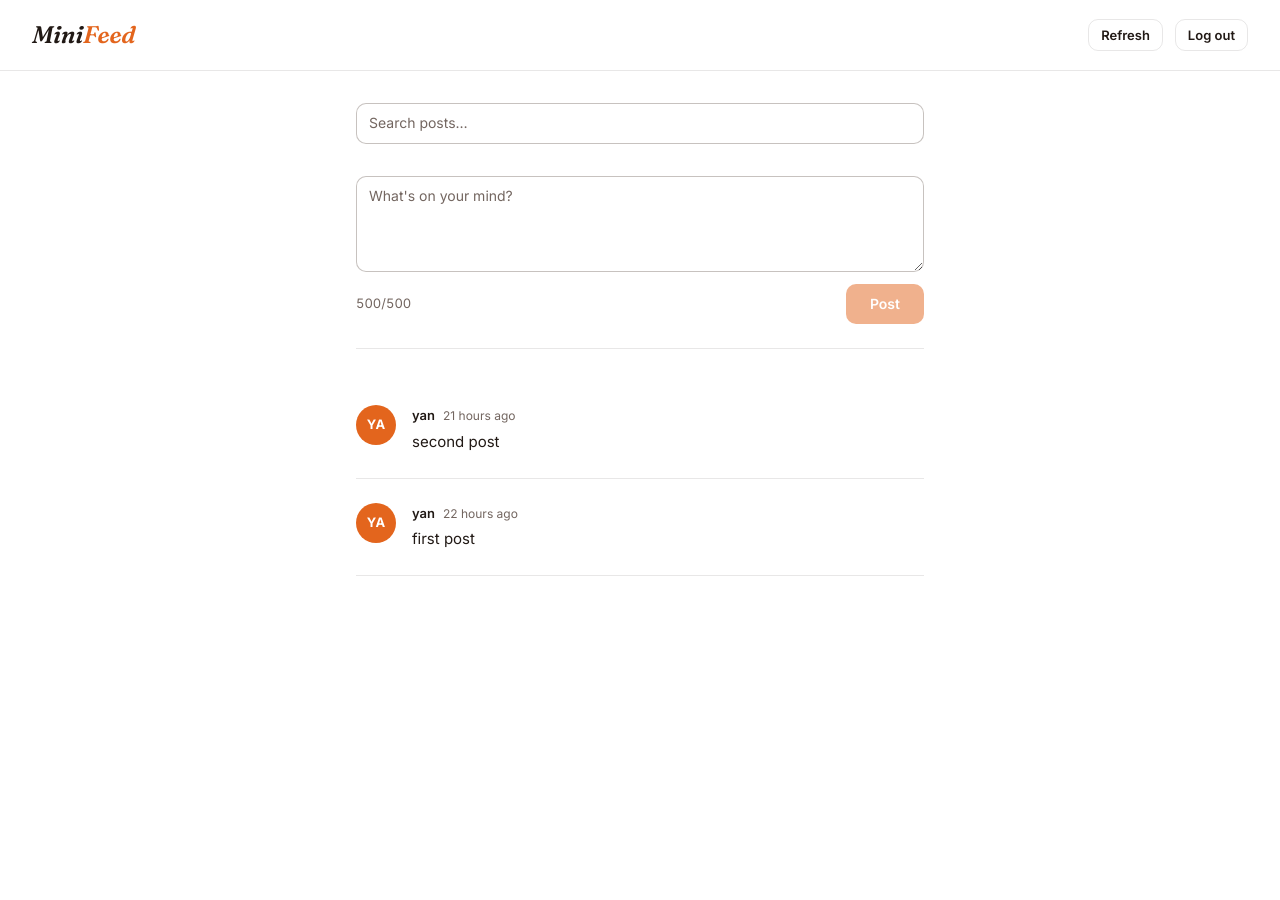
FeedPage › keeps posts and shows a stale banner when refresh fails after data loaded
Expected: the text "second post" is shown, [412,432,500,451]
Click the button with aria-label "Refresh feed" at (1125, 35), box [1088,19,1163,51]
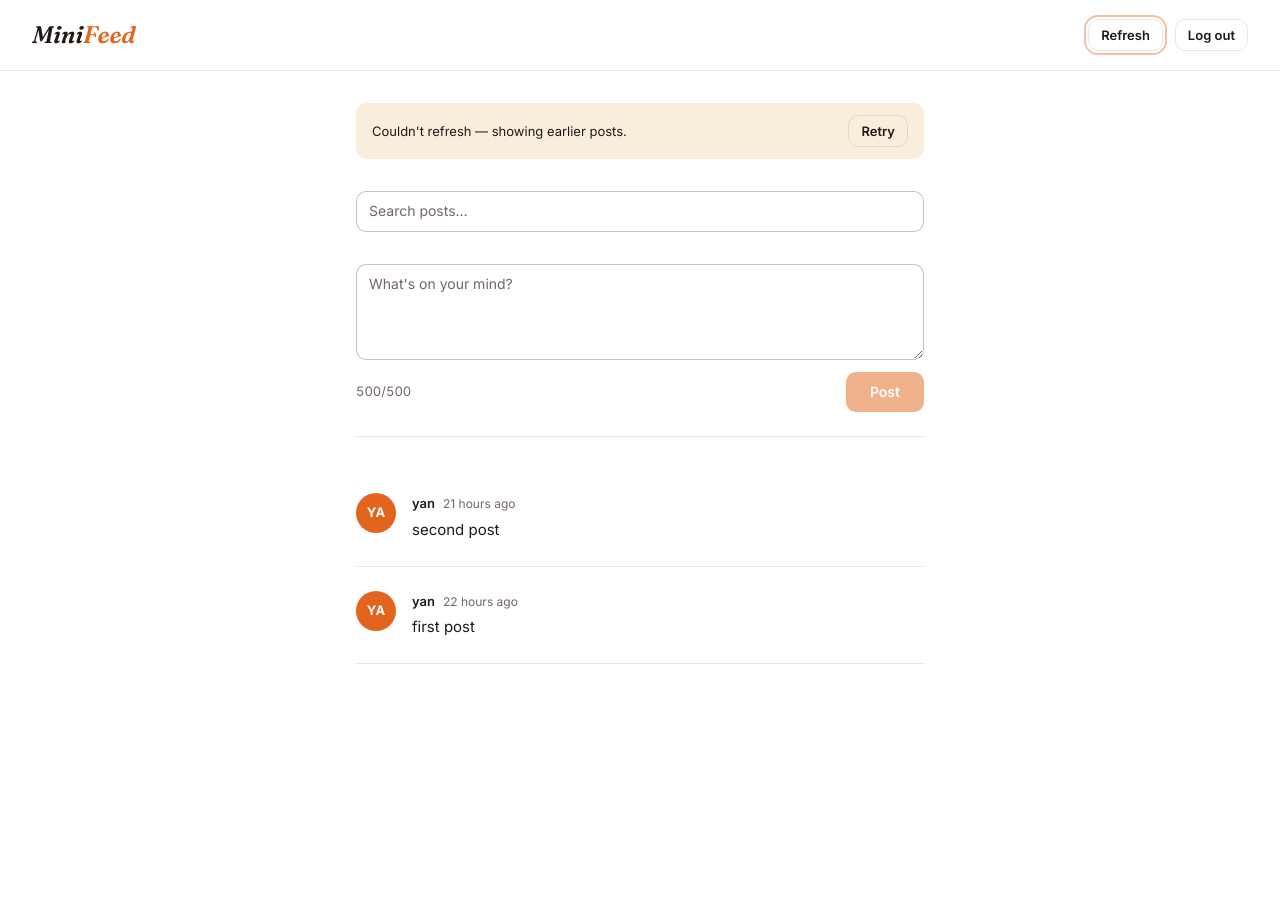
Expected: the text "second post" is shown, [412,520,500,539]
Now the text "Couldn't refresh — showing earlier posts." is shown, box [372,121,627,142]
